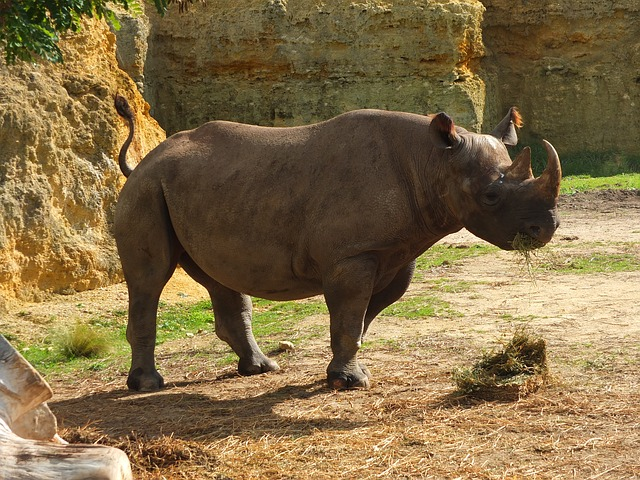Rhinoceros: (90, 87, 578, 397)
